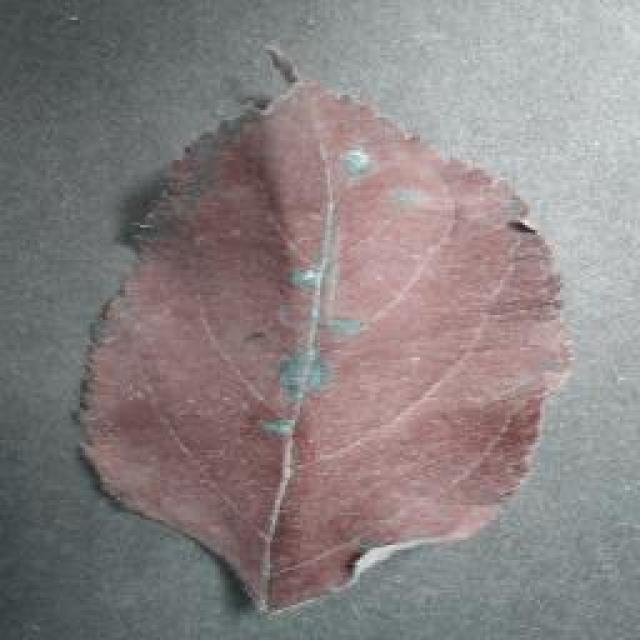apple cedar apple rust: (73, 47, 575, 615)
